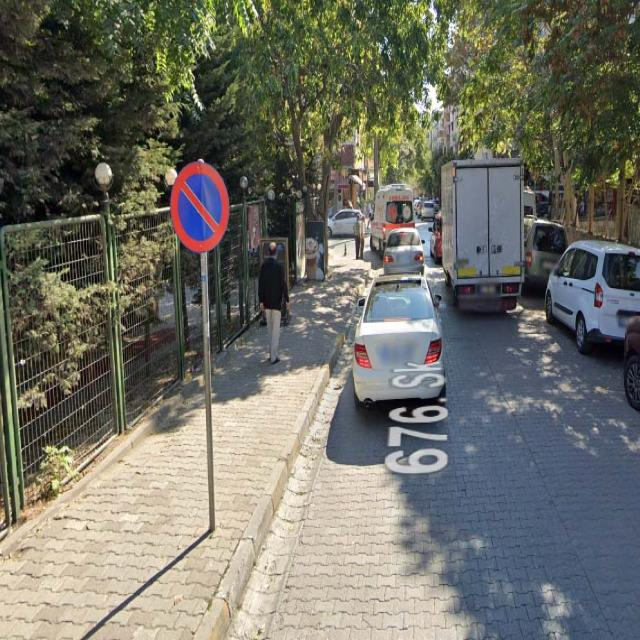parkyasak: (170, 162, 230, 252)
